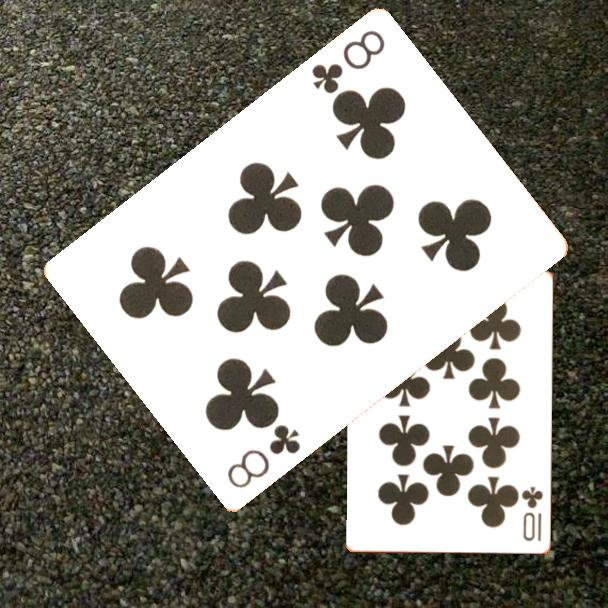c08: (223, 421, 304, 493), (307, 27, 389, 98)
c10: (519, 483, 546, 545)
